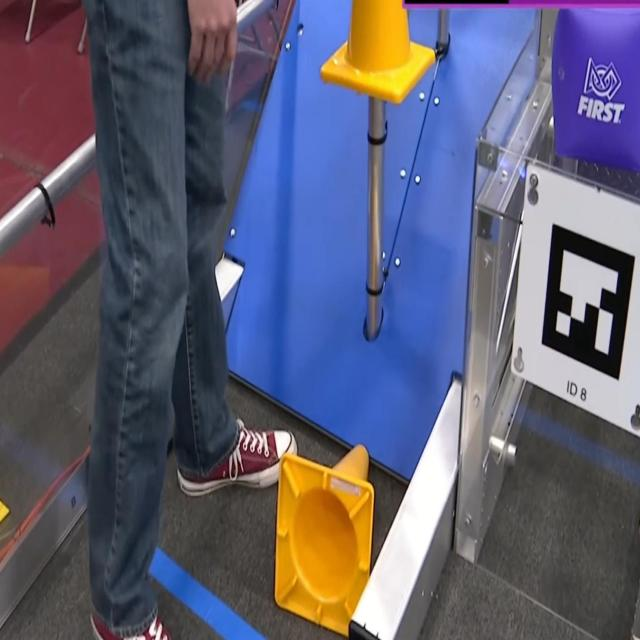frc_cone: (275, 444, 377, 616), (317, 0, 437, 111)
frc_cube: (548, 0, 640, 170)
